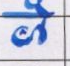ai_matra: (24, 0, 49, 14)
